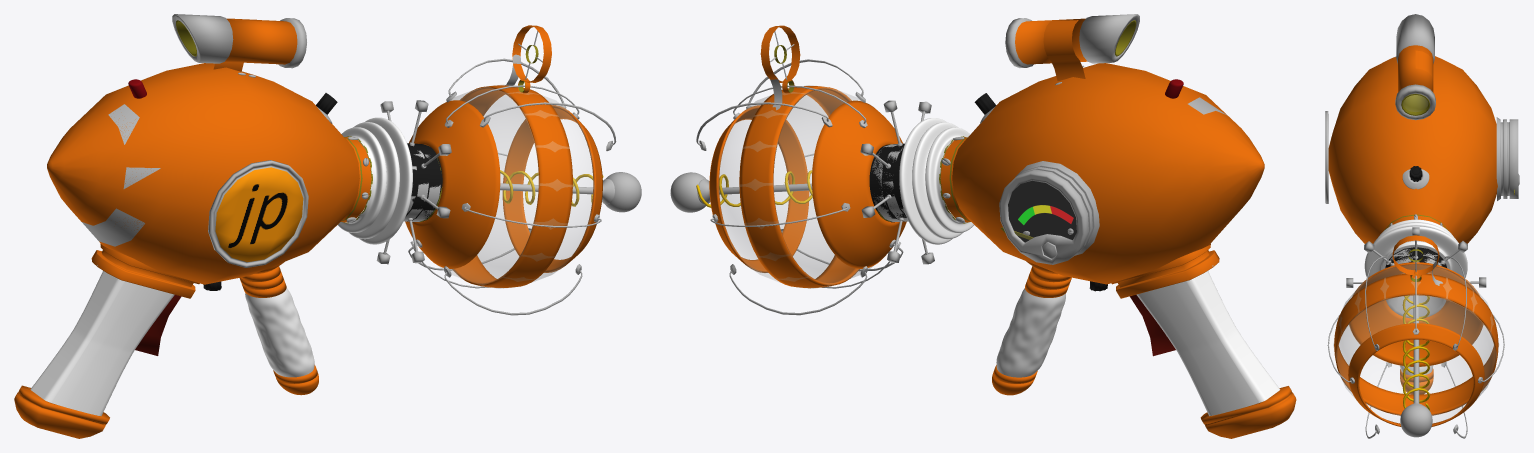
File: Laserpistole2.glb
3 views of the same model, side by side, from view 1: azimuth 30°, elevation 25°; view 2: azimuth 150°, elevation 25°; view 3: azimuth 270°, elevation 25° (orthographic). The views are drawn at different scales.
Parts seen in each view (by area): view 1: RGglasRim3.002, RGglasTrim, RGGlas, Cube.009, Circle, RGRibbed, Cylinder.009, Sphere.002, Cube.012, RGglasRim3.004, Cube.010, Cube.008 (+7 smaller); view 2: RGglasRim3.002, RGglasTrim, RGGlas, Cube.009, RGRibbed, Cylinder.008, Cylinder.009, Sphere.002, Cylinder.041, Cylinder.025, Cube.012, Cube.010 (+9 smaller); view 3: RGglasRim3.002, RGglasTrim, RGGlas, Cylinder.009, RGRibbed, Cylinder.008, Cube.008, Spiral, RGGlas.009, Cylinder.014, Cylinder.010, RGglasBridge (+7 smaller).
Boxes of the visible parts, <box> form: RGglasRim3.002: <box>47,63,359,284</box>; RGglasTrim: <box>405,85,602,287</box>; RGGlas: <box>439,84,594,288</box>; Cube.009: <box>30,271,174,416</box>; Circle: <box>208,160,308,267</box>; RGRibbed: <box>338,117,412,244</box>; Cylinder.009: <box>172,14,306,68</box>; Sphere.002: <box>245,288,314,377</box>; Cube.012: <box>14,385,109,438</box>; RGglasRim3.004: <box>82,104,160,246</box>; Cube.010: <box>91,243,199,298</box>; Cube.008: <box>500,172,641,212</box>; RGglasRim3.002: <box>952,63,1264,284</box>; RGglasTrim: <box>709,86,906,288</box>; RGGlas: <box>717,85,872,288</box>; Cube.009: <box>1136,271,1280,416</box>; RGRibbed: <box>899,118,973,244</box>; Cylinder.008: <box>999,161,1099,264</box>; Cylinder.009: <box>1005,14,1139,68</box>; Sphere.002: <box>996,288,1065,377</box>; Cylinder.041: <box>1008,181,1076,241</box>; Cylinder.025: <box>1008,180,1076,242</box>; Cube.012: <box>1200,386,1296,438</box>; Cube.010: <box>1111,243,1219,298</box>; RGglasRim3.002: <box>1328,56,1497,243</box>; RGglasTrim: <box>1334,262,1498,426</box>; RGGlas: <box>1333,264,1498,422</box>; Cylinder.009: <box>1395,14,1435,120</box>; RGRibbed: <box>1364,219,1467,277</box>; Cylinder.008: <box>1496,117,1519,200</box>; Cube.008: <box>1400,295,1432,437</box>; Spiral: <box>1402,295,1430,410</box>; RGGlas.009: <box>1386,273,1446,318</box>; Cylinder.014: <box>1392,235,1439,275</box>; Cylinder.010: <box>1401,93,1430,115</box>; RGglasBridge: <box>1385,247,1446,267</box>.
Bounding box in the file's own units: 7 × 4.4 × 2.34.
12 materials, 2 textured.
